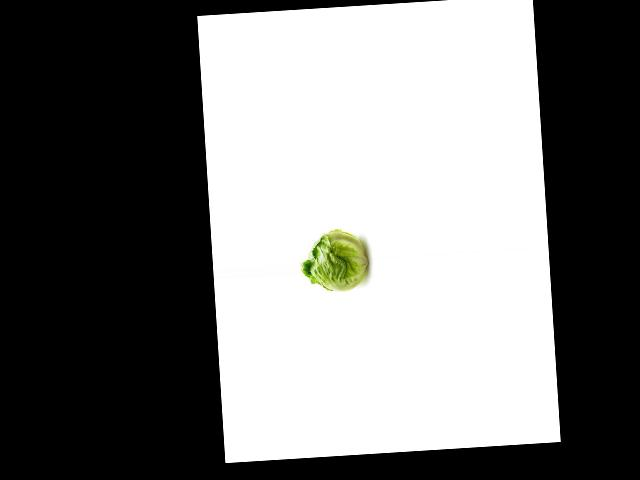lettuce: (298, 221, 372, 296)
